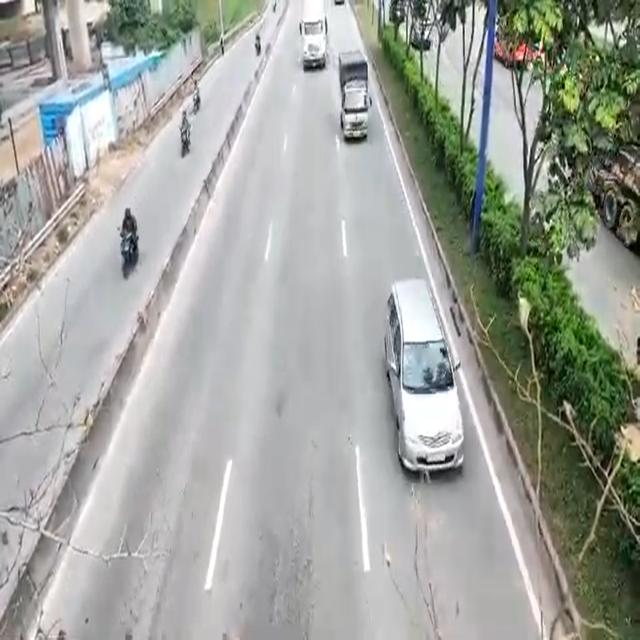car: (382, 283, 463, 481)
motor: (116, 200, 141, 278), (177, 105, 194, 156)
truck: (336, 52, 369, 144), (303, 7, 326, 72)
